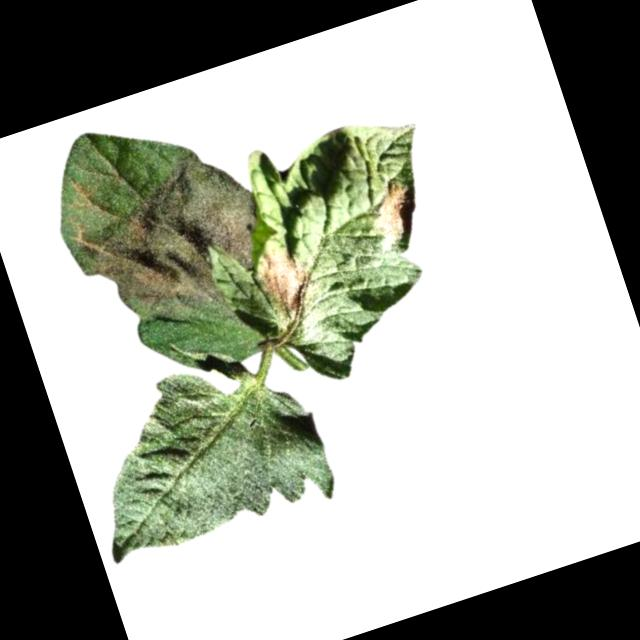Late_blight: (36, 129, 290, 361), (252, 238, 322, 322), (364, 178, 424, 245)
healthy: (63, 335, 341, 570)
